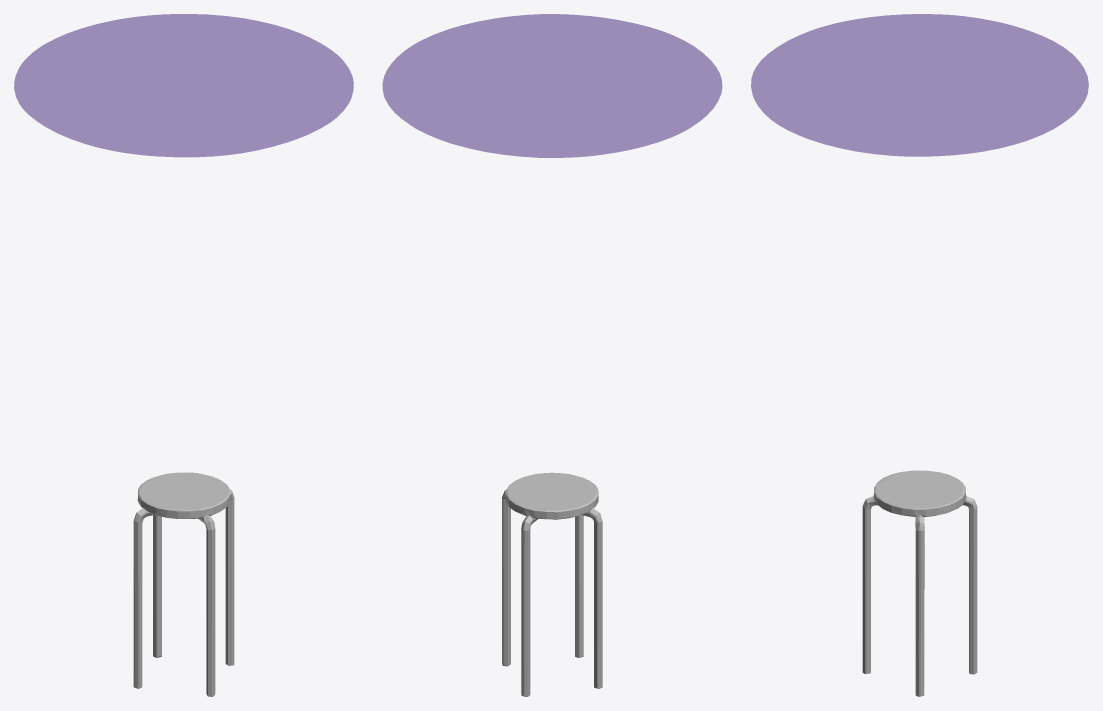
The model's file is init.glb.
The picture shows the model from 3 angles, left to right: view 1: azimuth 30°, elevation 25°; view 2: azimuth 150°, elevation 25°; view 3: azimuth 270°, elevation 25°; orthographic projection.
Parts seen in each view (by area): view 1: world, object.obj; view 2: world, object.obj; view 3: world, object.obj.
Boxes of the visible parts, x1,y1,x2,y2 form: world: (14,14,353,157); object.obj: (133,472,234,696); world: (382,14,722,157); object.obj: (502,472,602,696); world: (751,14,1088,156); object.obj: (862,470,977,696).
Bounding box in the file's own units: 0.5209 × 1 × 0.5209.
